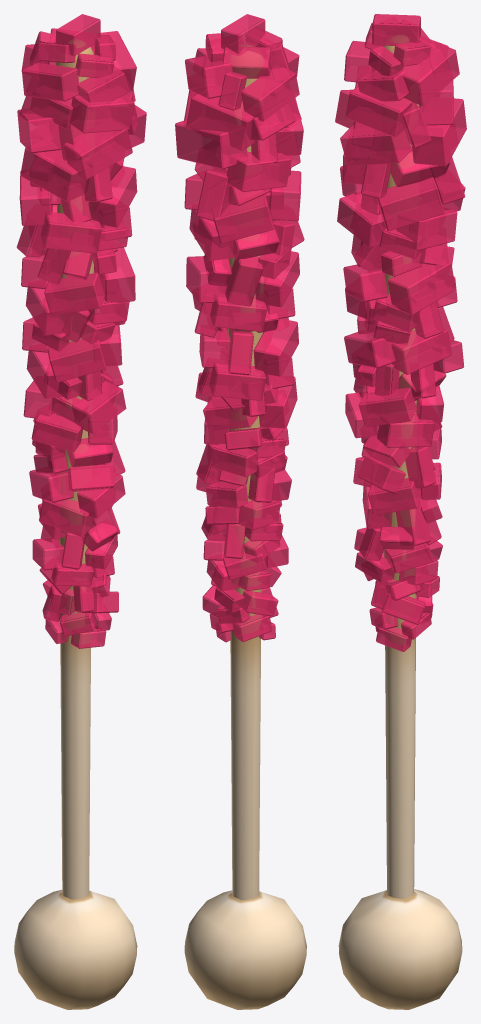
The model's file is Pop_Rock_Candy_Pink.FBX.
3 renders of one model, left to right at view 1: azimuth 30°, elevation 25°; view 2: azimuth 210°, elevation 25°; view 3: azimuth 330°, elevation 25°, orthographic.
Visible parts, largest first — view 1: Pink, Stick; view 2: Pink, Stick; view 3: Pink, Stick.
Boxes of the visible parts, x1,y1,x2,y2 form: Pink: (16, 14, 146, 648); Stick: (14, 39, 137, 1009); Pink: (175, 14, 304, 642); Stick: (184, 44, 306, 1009); Pink: (335, 14, 466, 651); Stick: (338, 35, 462, 1009).
Size of the model in its own units: 12.36 by 100 by 11.79.
Materials: 2 (2 with a texture image).
